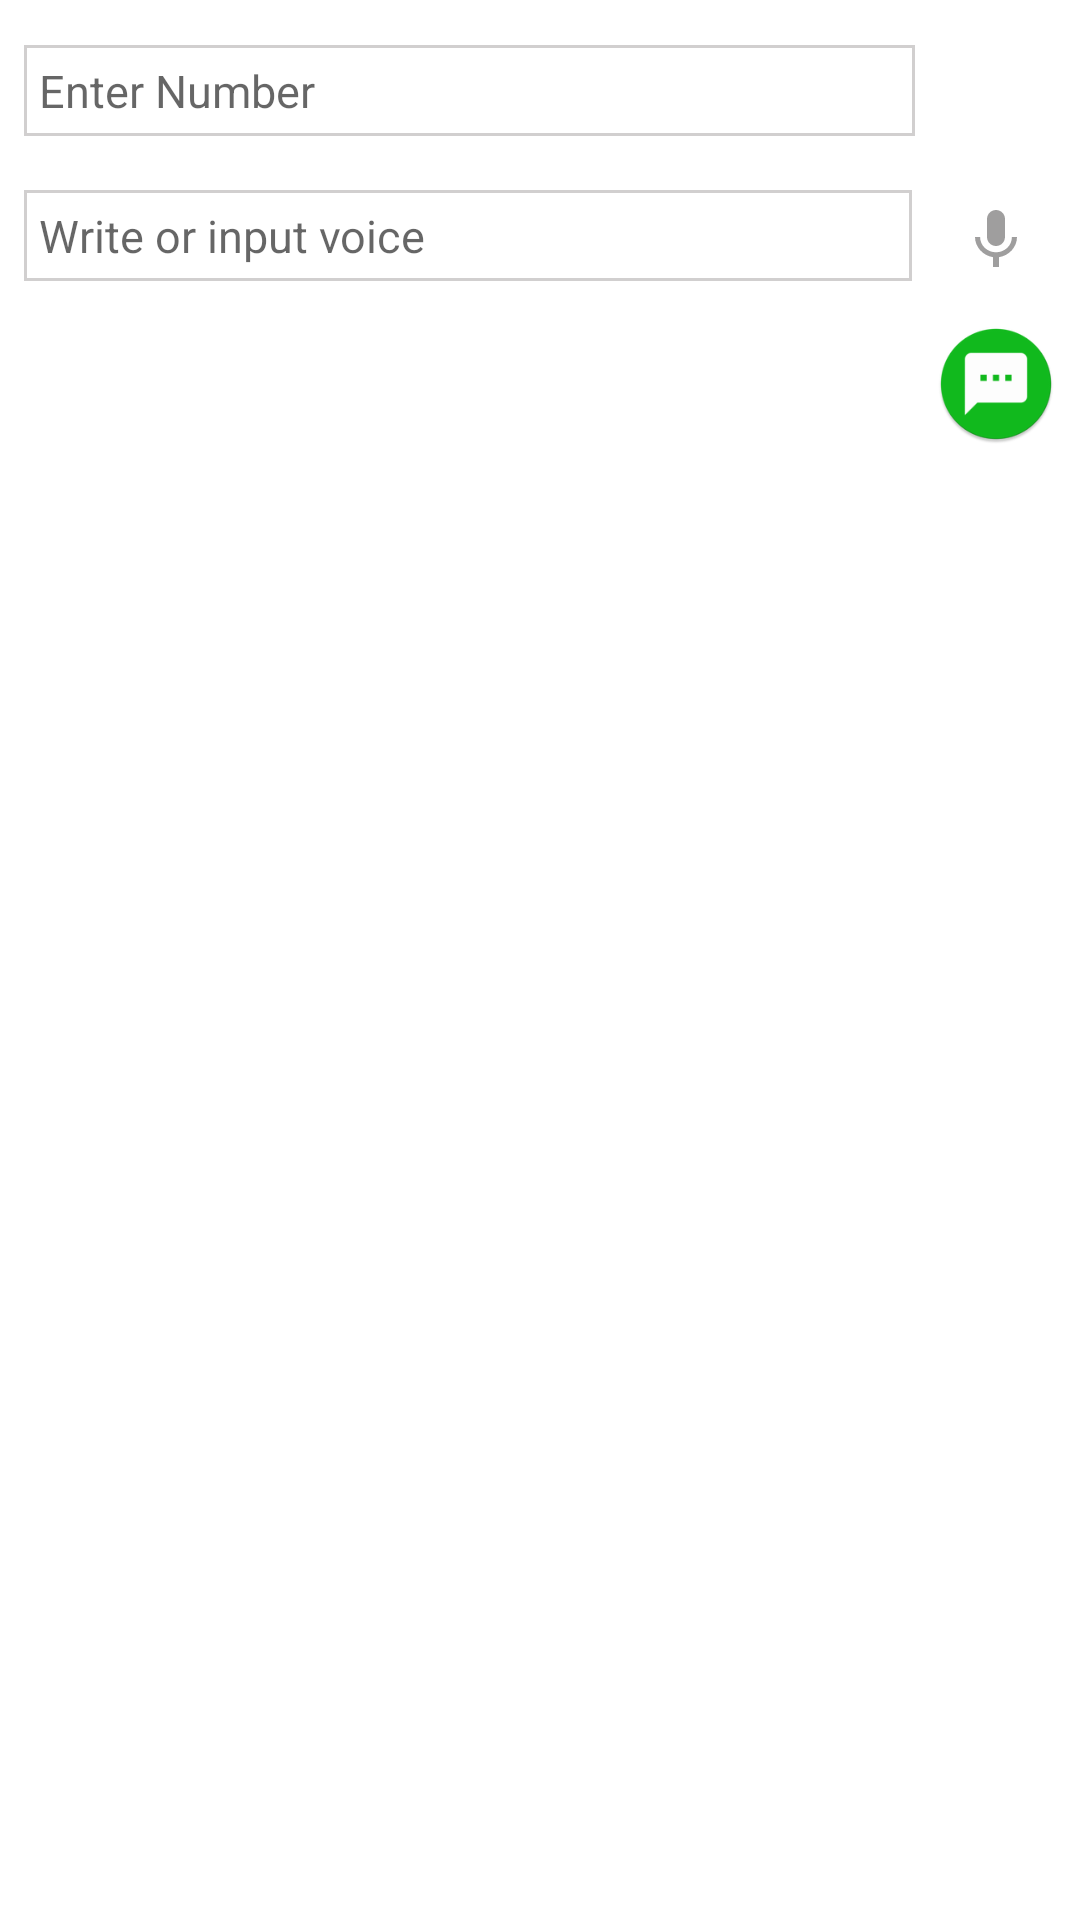

Screen size 1080x1920. Icon name, then its box in pixels as (x1, y1, x2, y2):
message: (940, 328, 1052, 442)
search get voice: (975, 210, 1017, 267)
